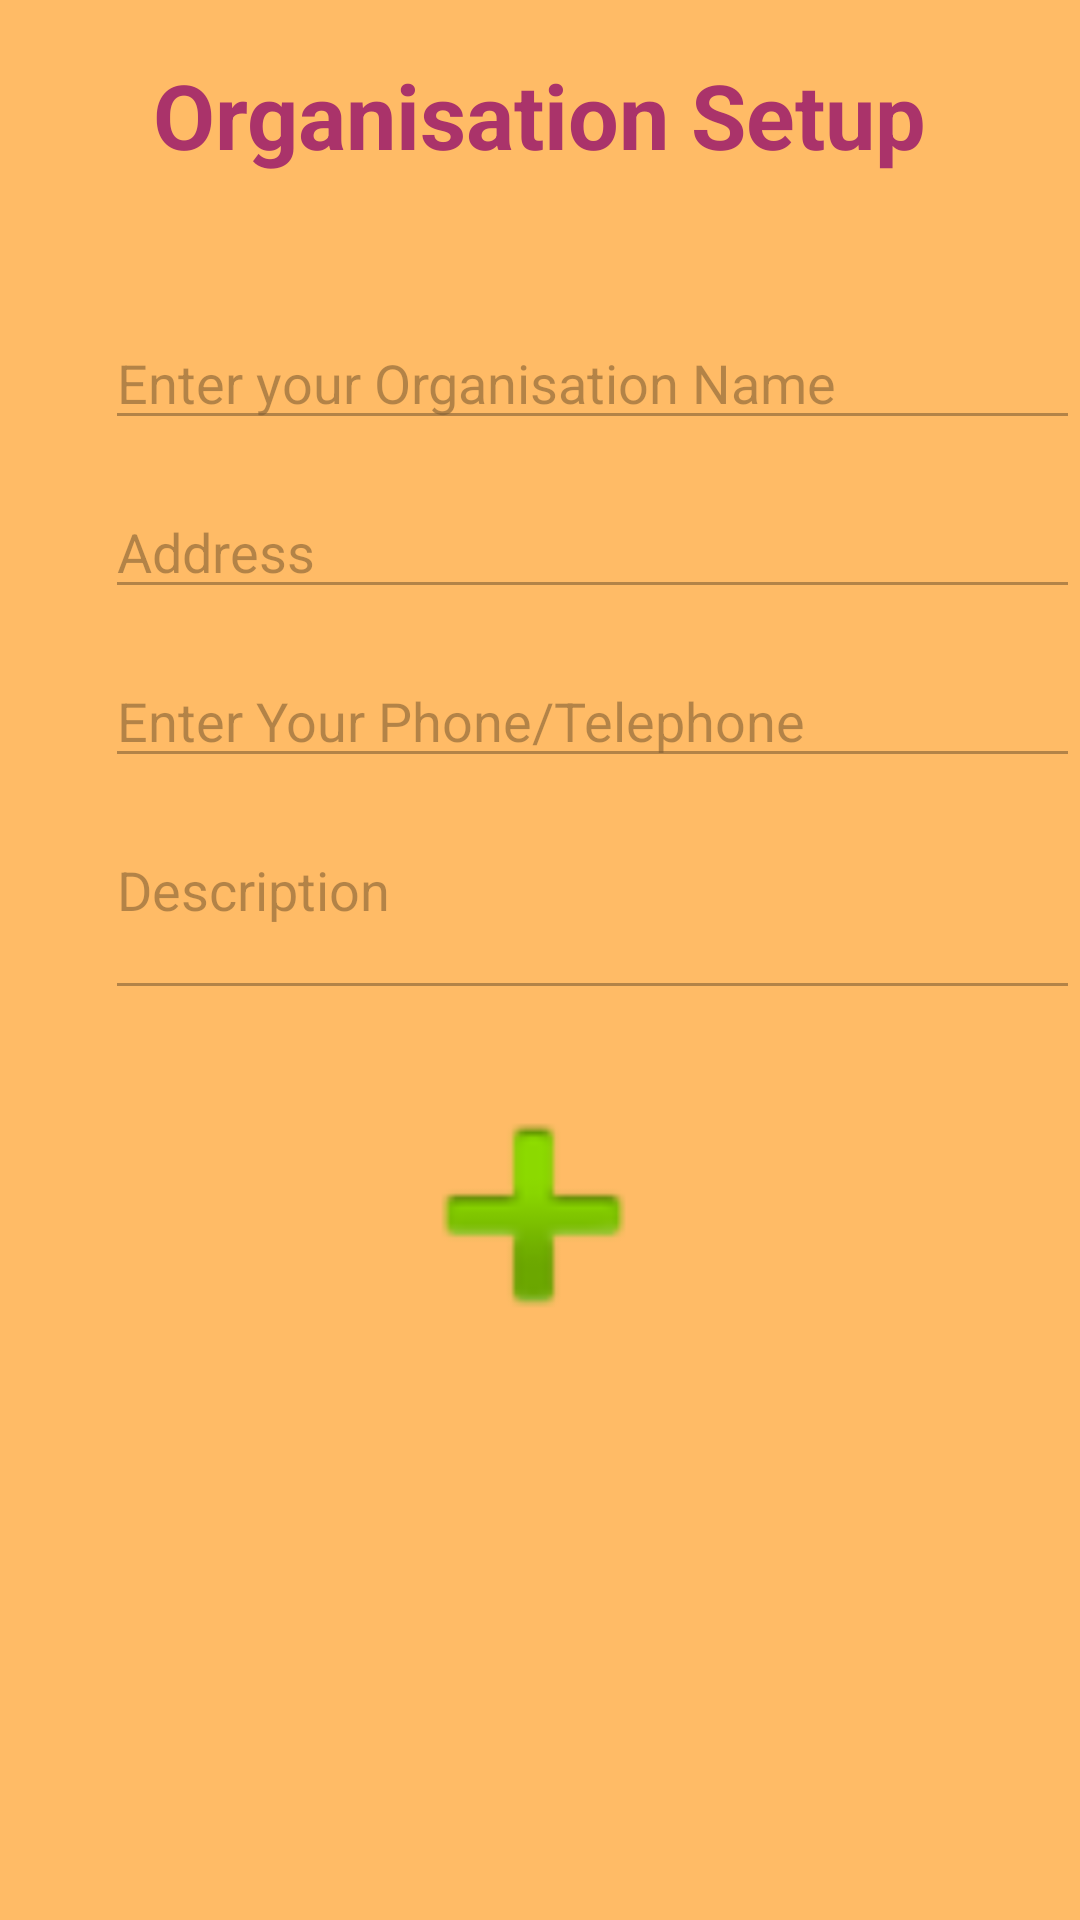

Icon click points for this 1080 × 1920 phone screenshot, format (x=x, y=y):
add: (x=533, y=1215)
